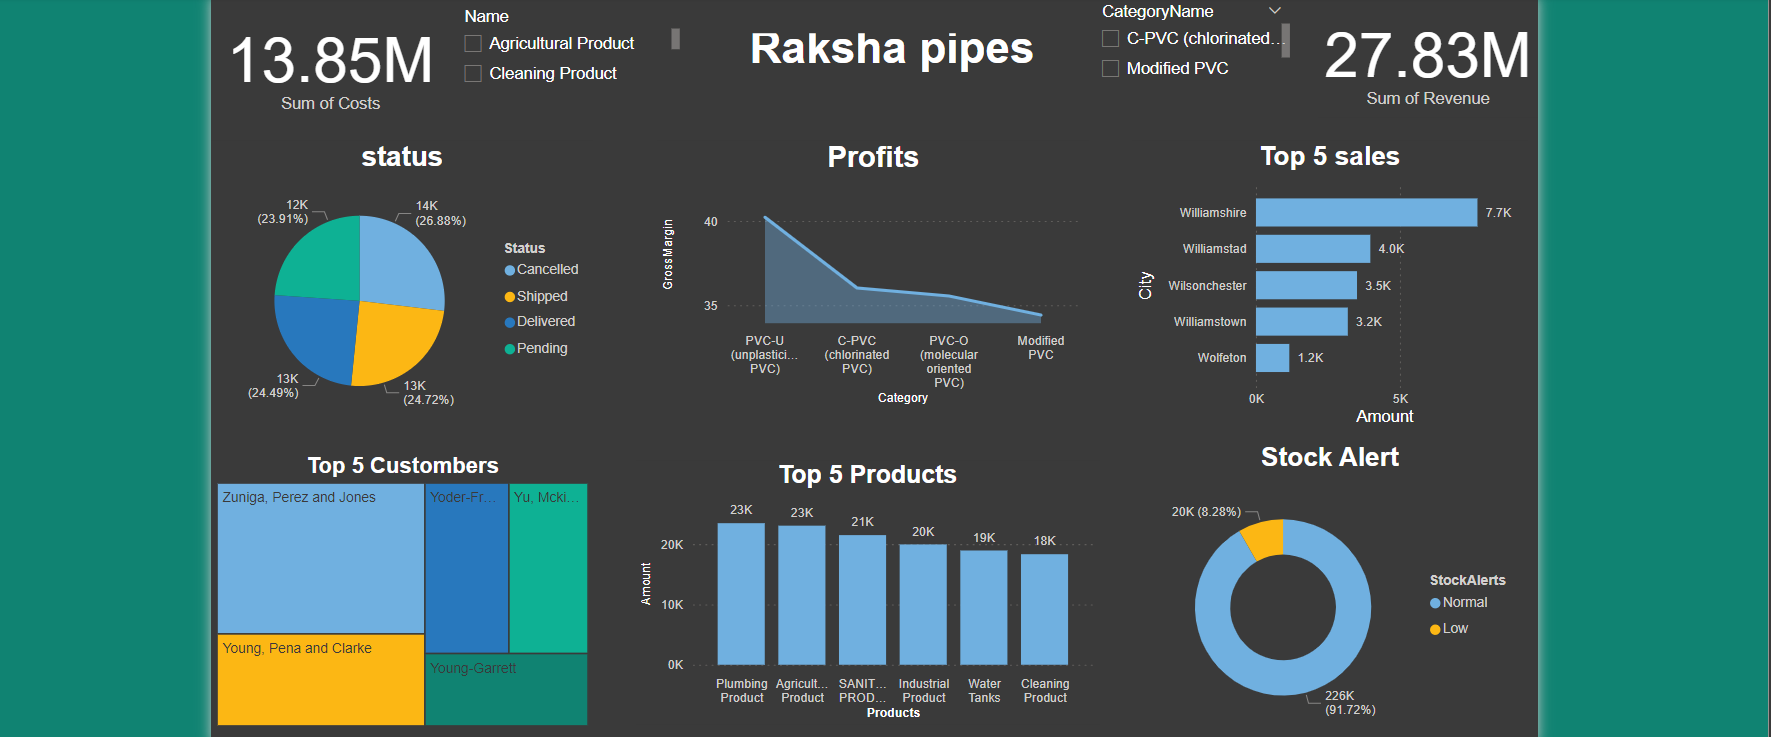

This screenshot's page, from the dashboard's own definition file:
{"tool":"powerbi","page":{"name":"Page 1","canvas":[1280,720],"ordinal":0},"visuals":[{"type":"clusteredColumnChart","fields":{"Category":["raksha_pipes sales.SalesByCity"],"Y":["raksha_pipes sales.TotalSales"]},"box":[889,138.2,381.5,280],"z":0},{"type":"card","fields":{"Values":["raksha_pipes financialmetrics.Costs"]},"box":[0,14.7,231.1,101.5],"z":3000},{"type":"card","fields":{"Values":["raksha_pipes financialmetrics.Revenue"]},"box":[1068.8,4.9,211.6,111.3],"z":4000},{"type":"donutChart","fields":{"Category":["raksha_pipes inventorymanagement.StockAlerts"],"Y":["raksha_pipes products.StockQuantity"]},"box":[889,429.2,381.5,291],"z":5000},{"type":"areaChart","fields":{"Category":["raksha_pipes financialmetrics.ProfitabilityByProductCategory"],"Y":["raksha_pipes financialmetrics.GrossMargin"]},"box":[430.1,139,417.1,259.9],"z":6000},{"type":"textbox","box":[431.3,30.2,415.4,86],"z":8000},{"type":"clusteredBarChart","fields":{"Category":["raksha_pipes sales.SalesByProduct"],"Y":["raksha_pipes sales.SaleID"]},"box":[410.6,447,447,254.7],"z":10000},{"type":"pieChart","fields":{"Category":["orders.Status"],"Y":["orders.Quantity"]},"box":[0,138.7,369.2,279.9],"z":11000},{"type":"treemap","fields":{"Group":["raksha_pipes customers.CustomerName"],"Values":["orders.TotalPrice"]},"box":[1.4,440,367.9,268.4],"z":11001},{"type":"slicer","fields":{"Values":["raksha_pipes categories.CategoryName"]},"box":[848.1,0,199.1,97.7],"z":11002},{"type":"slicer","fields":{"Values":["raksha_pipes products.Name"]},"box":[246.1,8.4,225.6,94.1],"z":11003}]}

Visuals, with their boxes on the page's 1280x720 design canvas (x1, y1, x2, y2). These are canvas units, not pixel positions in the 1771x737 screenshot, which may show the page scaled, cropped or inside an application window:
clusteredColumnChart - raksha_pipes sales.SalesByCity x raksha_pipes sales.TotalSales: {"x1": 889, "y1": 138, "x2": 1270, "y2": 418}
card - raksha_pipes financialmetrics.Costs: {"x1": 0, "y1": 15, "x2": 231, "y2": 116}
card - raksha_pipes financialmetrics.Revenue: {"x1": 1069, "y1": 5, "x2": 1280, "y2": 116}
donutChart - raksha_pipes inventorymanagement.StockAlerts x raksha_pipes products.StockQuantity: {"x1": 889, "y1": 429, "x2": 1270, "y2": 720}
areaChart - raksha_pipes financialmetrics.ProfitabilityByProductCategory x raksha_pipes financialmetrics.GrossMargin: {"x1": 430, "y1": 139, "x2": 847, "y2": 399}
textbox: {"x1": 431, "y1": 30, "x2": 847, "y2": 116}
clusteredBarChart - raksha_pipes sales.SalesByProduct x raksha_pipes sales.SaleID: {"x1": 411, "y1": 447, "x2": 858, "y2": 702}
pieChart - orders.Status x orders.Quantity: {"x1": 0, "y1": 139, "x2": 369, "y2": 419}
treemap - raksha_pipes customers.CustomerName x orders.TotalPrice: {"x1": 1, "y1": 440, "x2": 369, "y2": 708}
slicer - raksha_pipes categories.CategoryName: {"x1": 848, "y1": 0, "x2": 1047, "y2": 98}
slicer - raksha_pipes products.Name: {"x1": 246, "y1": 8, "x2": 472, "y2": 102}
